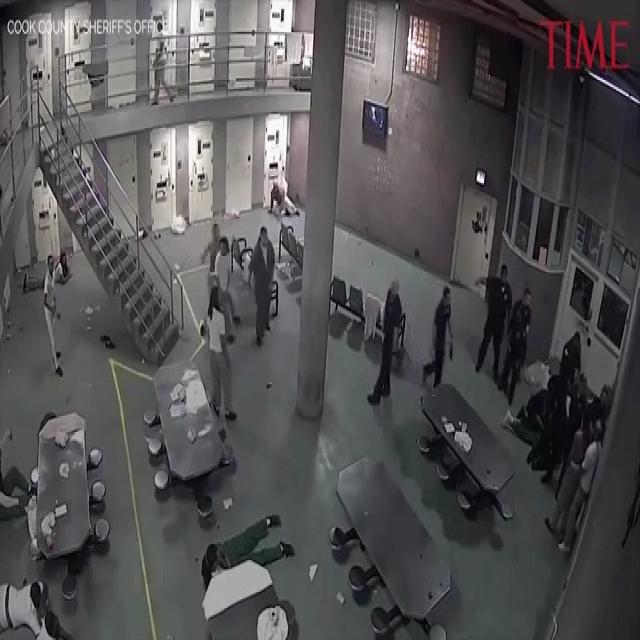fight: (530, 307, 601, 506)
